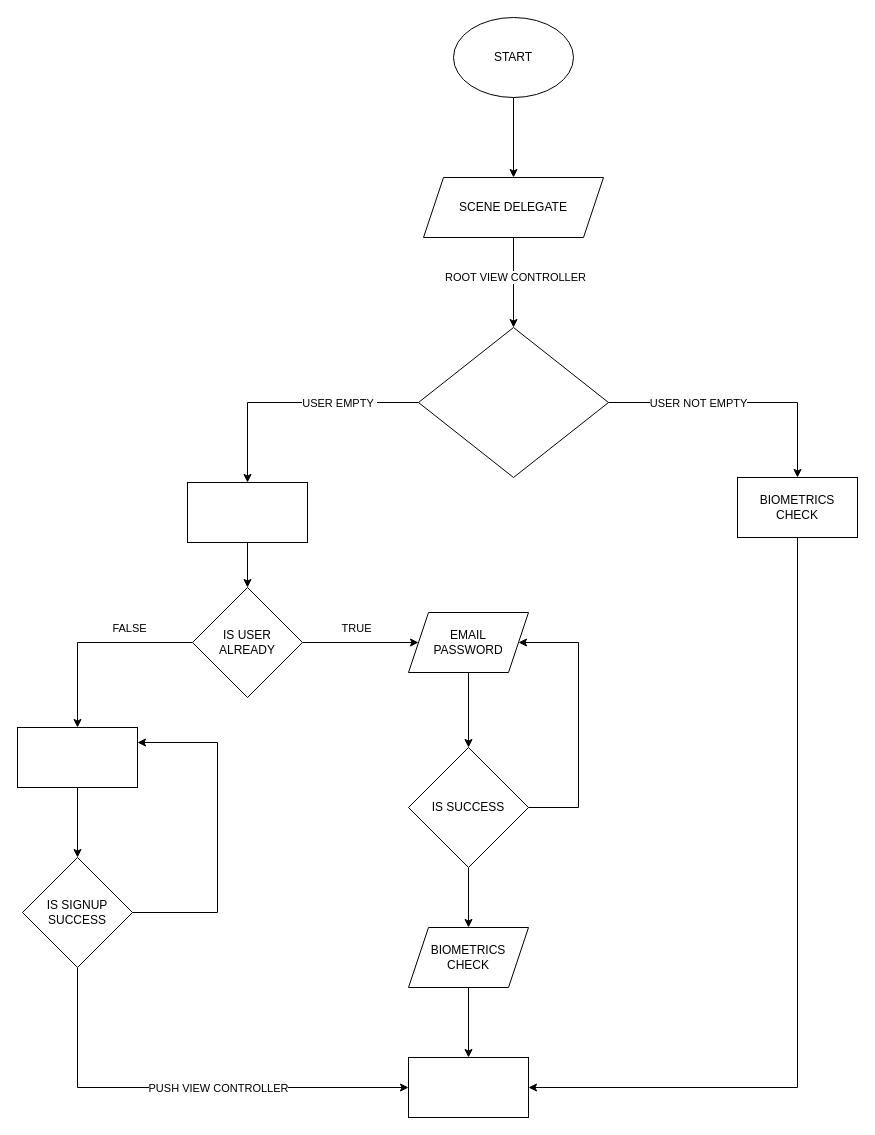
The diagram is 875 pixels wide and 1135 high, and some of its shapes have lost their labels. The box of each missing label's shape, as (x1, y1, x2, y2) in pixels:
HOME: (408, 1056, 528, 1118)
IS USERDEFAULT EXIST: (418, 326, 608, 478)
LOGIN: (186, 482, 308, 542)
SIGNUP: (16, 726, 138, 788)
